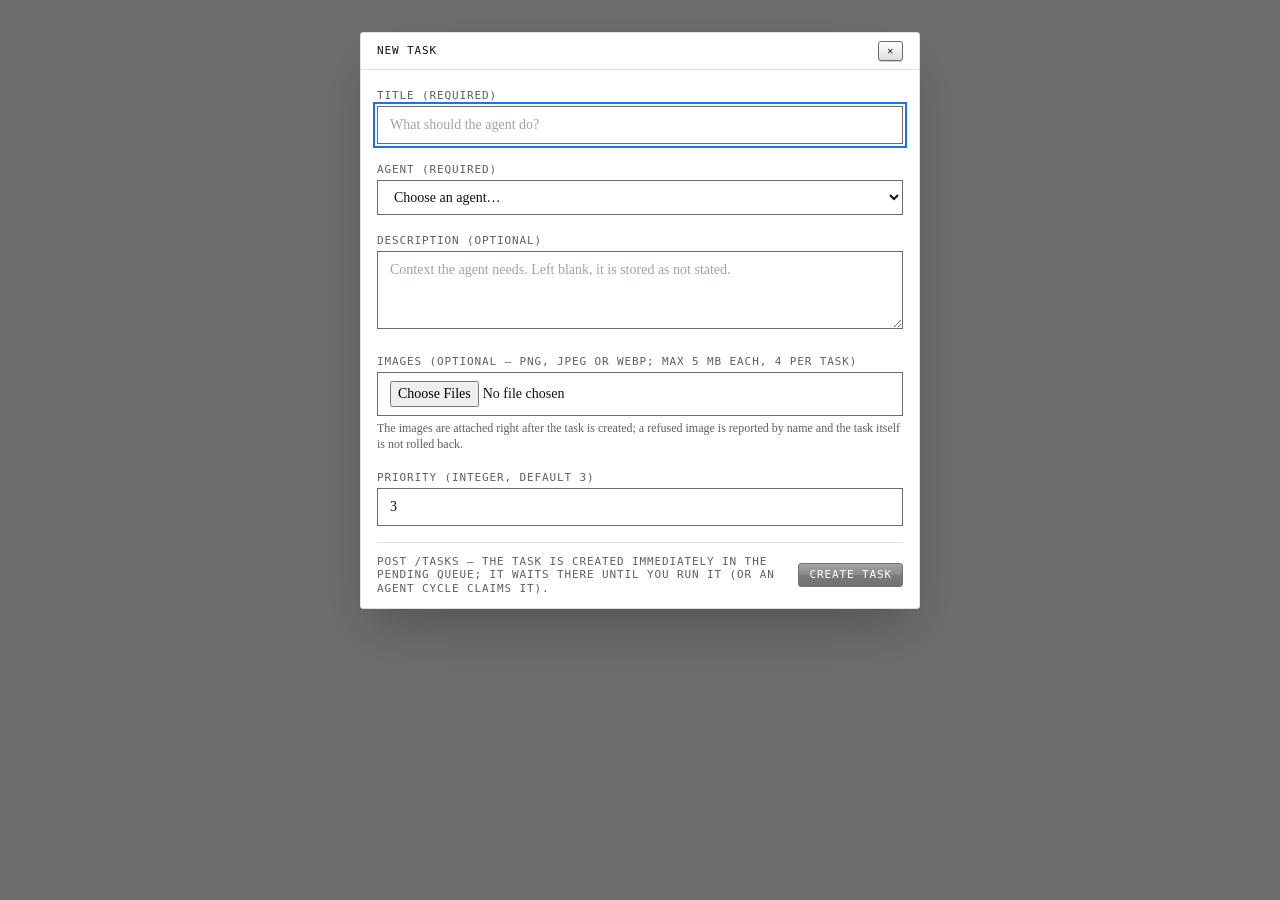
it: D-4: the invalid priority field owns its error (aria-invalid + aria-describedby)
This screenshot has width=1280, height=900.
Replace the text in the number field labelled "Priority (integer, default 3)" with "1.5": x=640, y=506 [377,488,903,526]
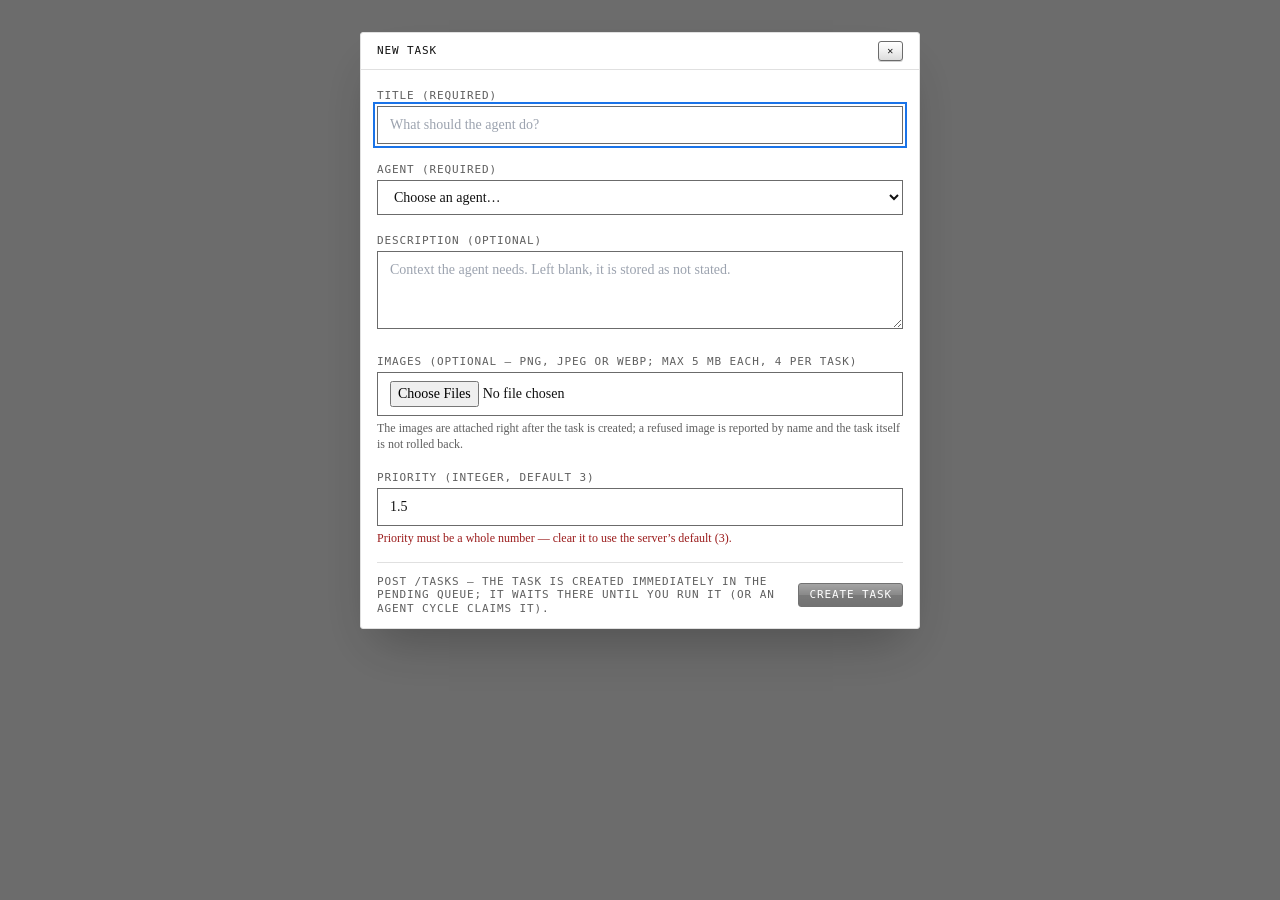
Expected: the message shows "whole number", [377,530,732,544]
